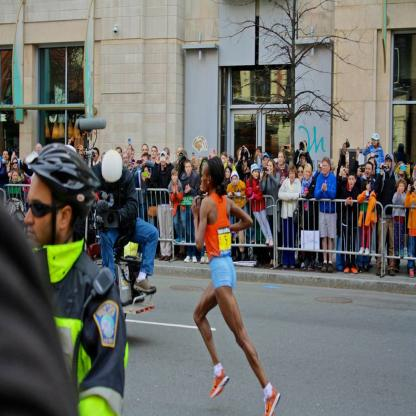Helmet: (21, 152, 93, 253)
